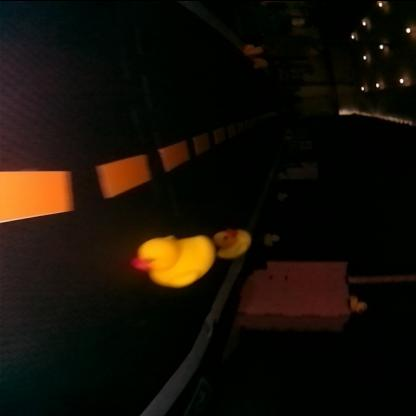Duckie: (138, 232, 215, 286), (214, 230, 251, 256), (352, 296, 368, 310), (245, 43, 264, 53), (266, 232, 281, 244), (254, 57, 270, 65)
